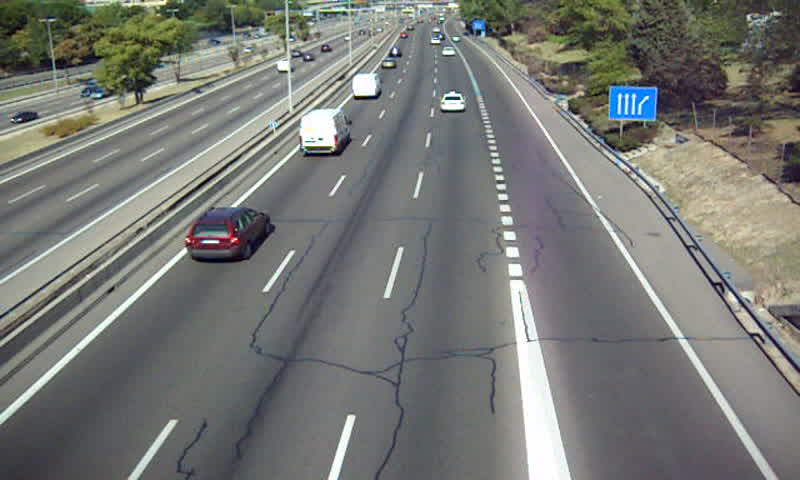car: (186, 207, 271, 263), (440, 92, 465, 112), (381, 58, 397, 70), (441, 46, 456, 57), (390, 46, 402, 58)
van: (300, 108, 350, 152), (351, 73, 381, 96)
